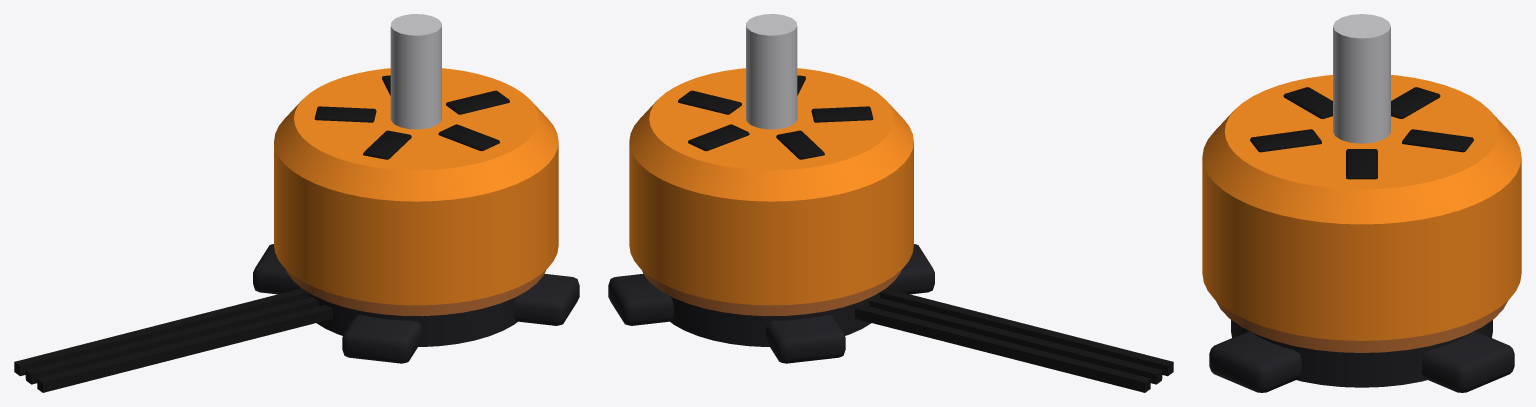
File: motor_2208.glb
3 renders of one model, left to right at view 1: azimuth 30°, elevation 25°; view 2: azimuth 150°, elevation 25°; view 3: azimuth 270°, elevation 25°, orthographic. The views are drawn at different scales.
Visible parts, largest first — view 1: motor_2208_M_Bell_2208, motor_2208_M_WireBlack, motor_2208_M_MotorBase, motor_2208_M_Steel, motor_2208_M_MotorDark, motor_2208_M_Copper; view 2: motor_2208_M_Bell_2208, motor_2208_M_WireBlack, motor_2208_M_MotorBase, motor_2208_M_Steel, motor_2208_M_MotorDark, motor_2208_M_Copper; view 3: motor_2208_M_Bell_2208, motor_2208_M_MotorBase, motor_2208_M_Steel, motor_2208_M_MotorDark, motor_2208_M_Copper.
Part boxes in pixels (bbox=[...]): motor_2208_M_Bell_2208: bbox=[274, 68, 558, 305]; motor_2208_M_WireBlack: bbox=[14, 288, 332, 392]; motor_2208_M_MotorBase: bbox=[253, 244, 579, 363]; motor_2208_M_Steel: bbox=[390, 14, 441, 129]; motor_2208_M_MotorDark: bbox=[314, 75, 509, 159]; motor_2208_M_Copper: bbox=[286, 269, 546, 316]; motor_2208_M_Bell_2208: bbox=[629, 68, 913, 305]; motor_2208_M_WireBlack: bbox=[855, 288, 1173, 392]; motor_2208_M_MotorBase: bbox=[608, 244, 934, 363]; motor_2208_M_Steel: bbox=[746, 14, 797, 129]; motor_2208_M_MotorDark: bbox=[678, 75, 873, 159]; motor_2208_M_Copper: bbox=[641, 269, 901, 316]; motor_2208_M_Bell_2208: bbox=[1202, 75, 1521, 340]; motor_2208_M_MotorBase: bbox=[1209, 320, 1514, 392]; motor_2208_M_Steel: bbox=[1333, 14, 1390, 143]; motor_2208_M_MotorDark: bbox=[1250, 87, 1473, 179]; motor_2208_M_Copper: bbox=[1215, 300, 1508, 352].
Bounding box in the file's own units: 0.057 × 0.0291 × 0.0275.
